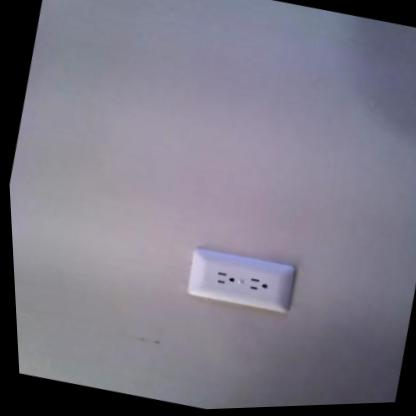OUTLET: (186, 244, 298, 317)
